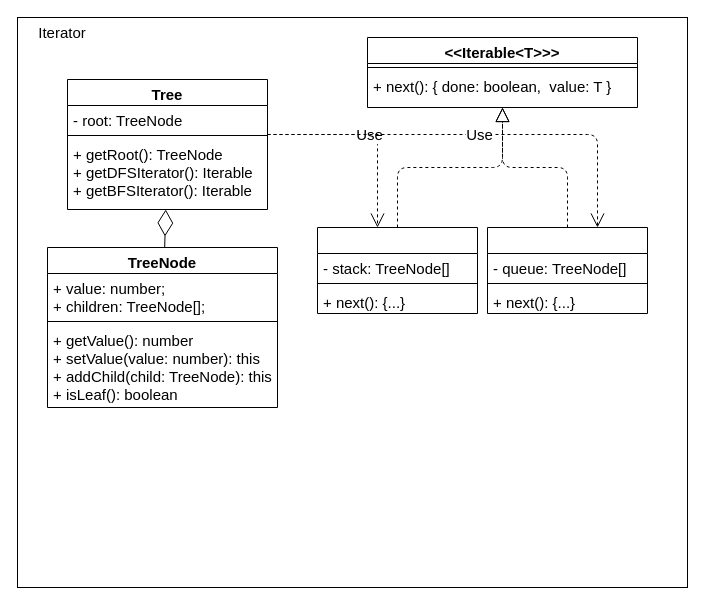
This 705x605 diagram has some shape labels left out. The shapes that lost their labels are listed below. From the top down, each one's box as (x1, y1, x2, y2) in pixels, then its label:
(316, 226, 478, 314): DFSIterator
(486, 226, 648, 314): BFSIterator
